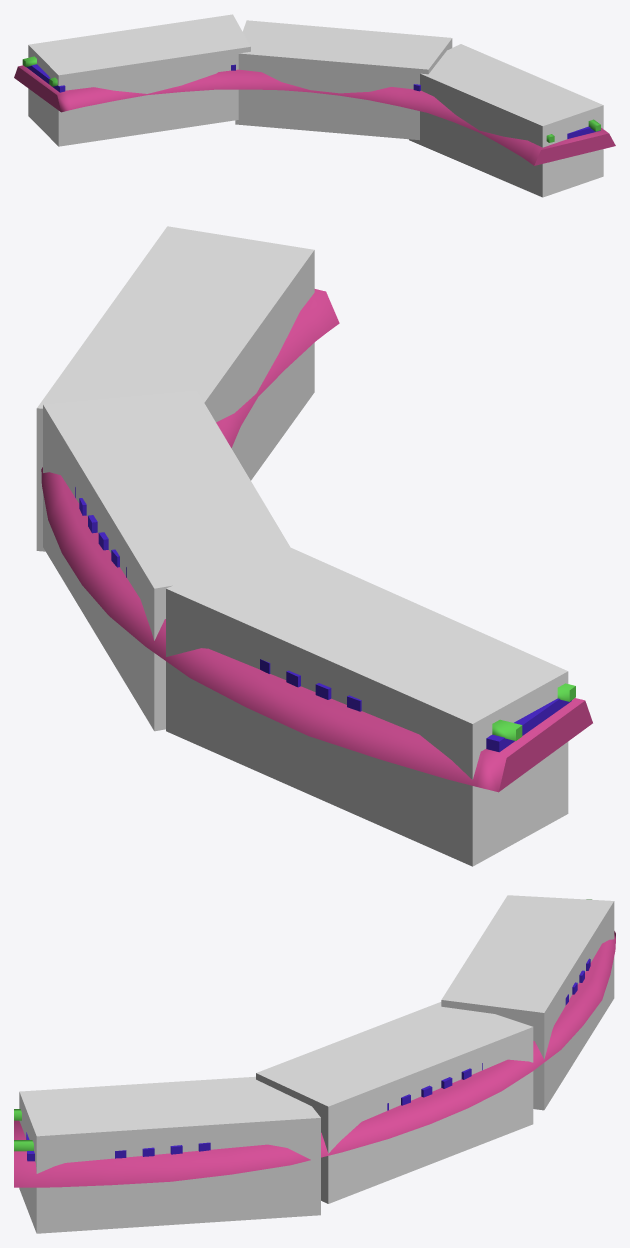
Rendered from small_right.fbx.
The picture shows the model from 3 angles, top to bottom: view 1: azimuth 30°, elevation 25°; view 2: azimuth 150°, elevation 25°; view 3: azimuth 270°, elevation 25°; orthographic projection. The views are drawn at different scales.
Parts seen in each view (by area): view 1: boundingBox1, boundingBox2, boundingBox3, ties; view 2: boundingBox1, boundingBox2, boundingBox3, ties; view 3: boundingBox3, boundingBox2, boundingBox1, ties.
Part boxes in pixels (x1,y1,x2,y2): boundingBox1: (28,14,250,146); boundingBox2: (235,20,452,140); boundingBox3: (409,44,603,197); ties: (14,56,615,165); boundingBox1: (166,543,568,866); boundingBox2: (43,390,289,731); boundingBox3: (36,226,314,551); ties: (41,289,592,792); boundingBox3: (19,1076,320,1233); boundingBox2: (256,1002,533,1203); boundingBox1: (441,895,614,1110); ties: (14,899,615,1187).
Bounding box in the file's own units: 560 × 108 × 560.
